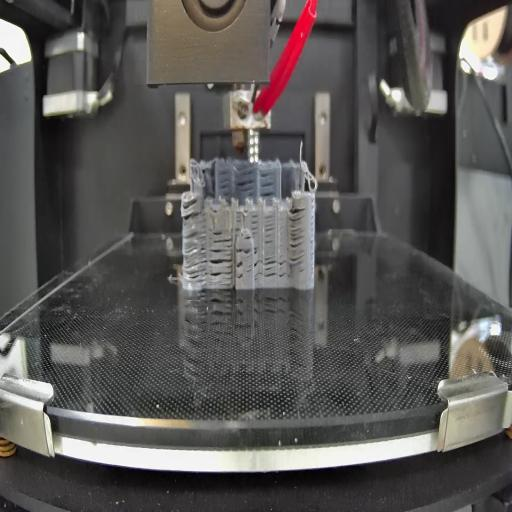cracks: (182, 230, 207, 282), (290, 207, 306, 268), (210, 249, 232, 287), (254, 260, 286, 280), (234, 168, 256, 197), (180, 198, 203, 222), (258, 172, 276, 200), (218, 168, 232, 198), (213, 228, 232, 246), (265, 213, 275, 247), (251, 212, 259, 238), (236, 248, 260, 256), (236, 260, 244, 283), (233, 214, 243, 232), (244, 236, 250, 241)
